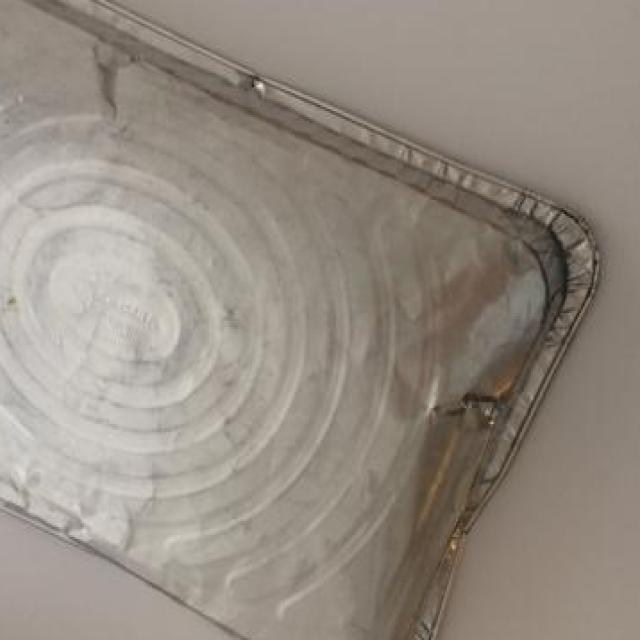organic: (6, 4, 605, 631)
